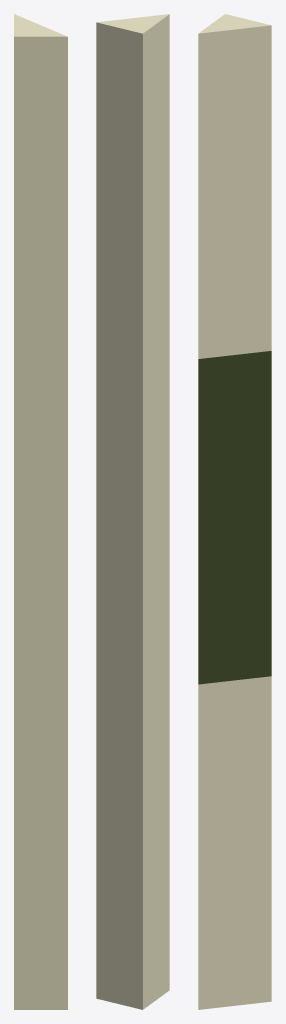
The model's file is InteriorWall_EndCap_BR45_ExportPrep.gltf.
The picture shows the model from 3 angles, left to right: view 1: azimuth 90°, elevation 25°; view 2: azimuth 150°, elevation 25°; view 3: azimuth 330°, elevation 25°; orthographic projection.
Visible parts, largest first — view 1: InteriorWall_EndCap_45; view 2: InteriorWall_EndCap_45; view 3: InteriorWall_EndCap_45.
Boxes of the visible parts, x1,y1,x2,y2 form: InteriorWall_EndCap_45: (14,14,67,1009); InteriorWall_EndCap_45: (96,14,169,1009); InteriorWall_EndCap_45: (198,14,271,1009).
Bounding box in the file's own units: 0.15 × 3 × 0.15.
